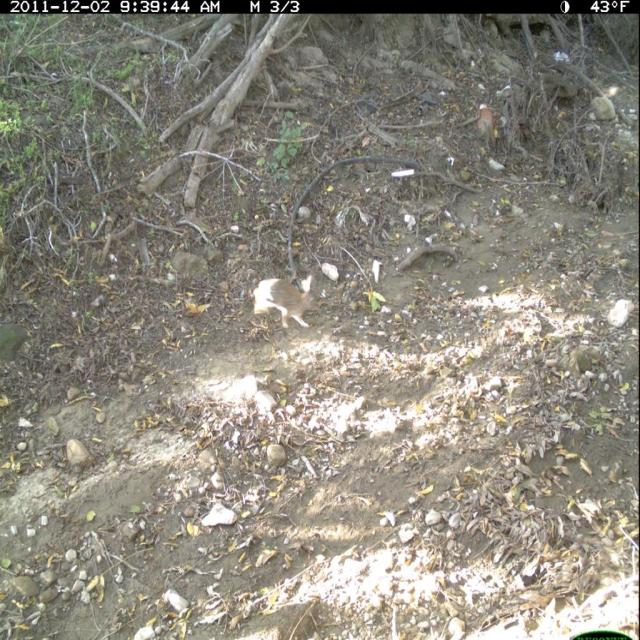rabbit: (243, 262, 321, 344)
